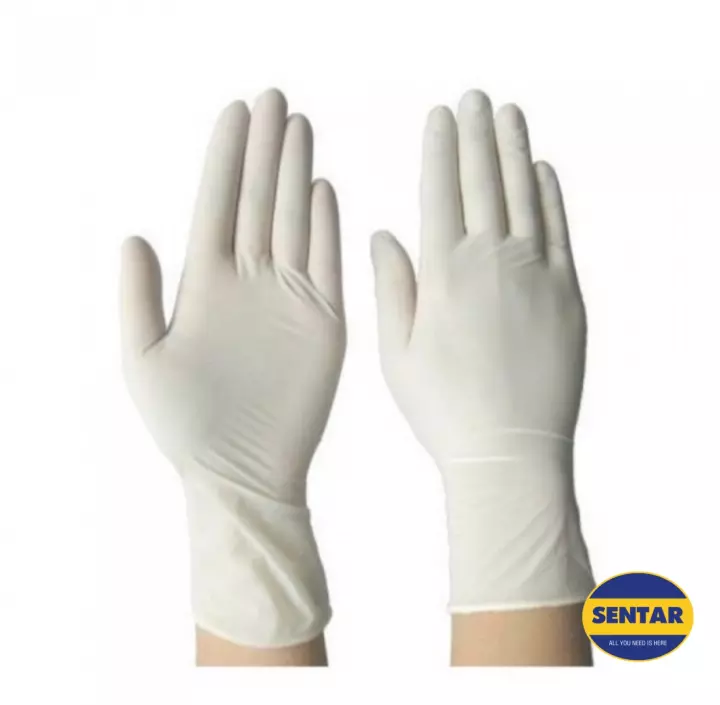Gloves: (115, 85, 348, 630), (369, 83, 598, 599)
